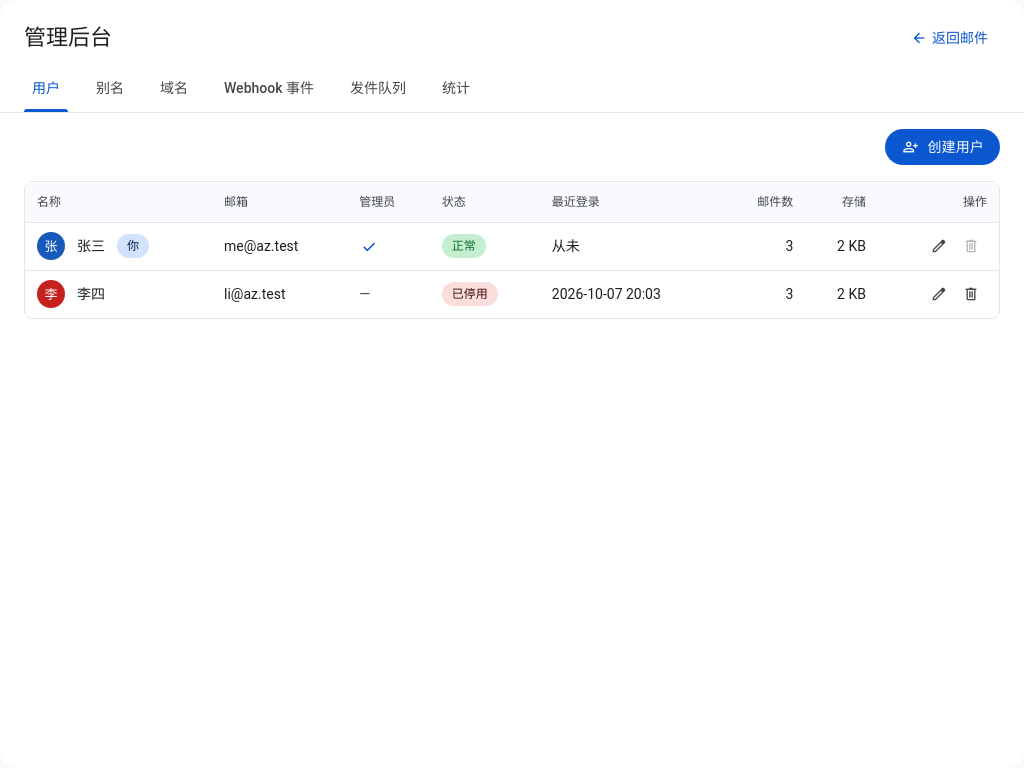
Test case: Admin → 用户 › edit dialog sends only changed fields and shows last_admin
The width and height of the screenshot is (1024, 768).
Check: the text "李四" is shown, box [77,284,105,304]
Click the button named "修改 me@az.test". click: (939, 246)
box: [923,230,955,262]
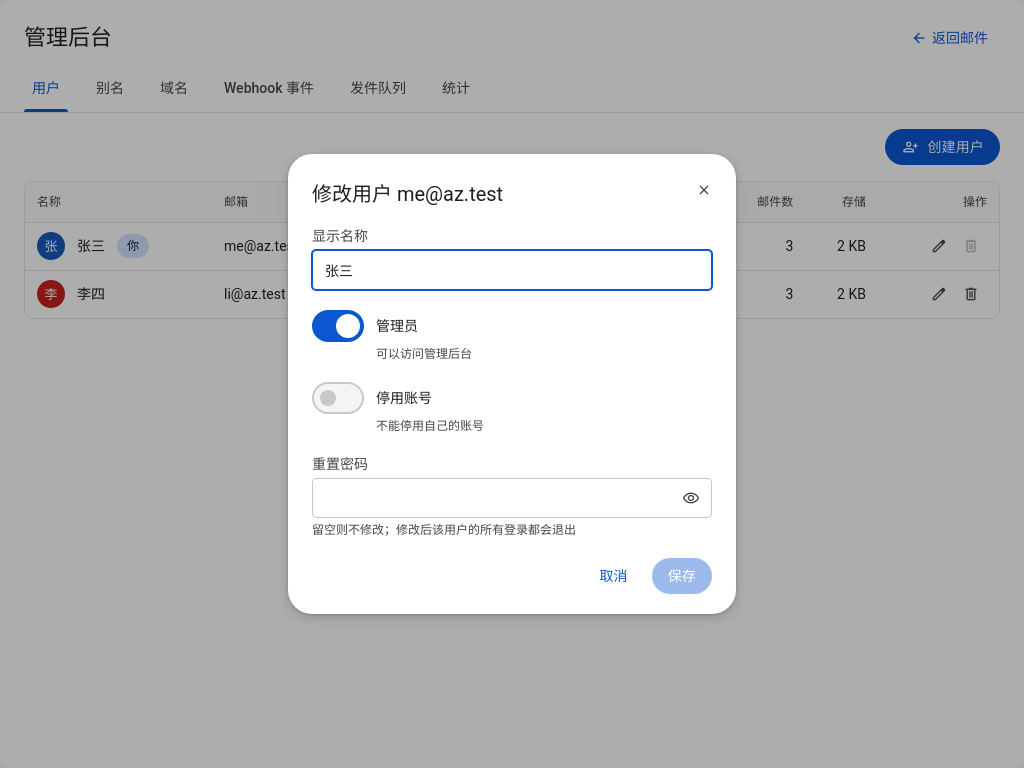
Check: the switch named "停用账号" next to "停用账号" is disabled, box [312,382,364,414]
Check: the button "保存" is disabled, box [652,558,712,594]
Click the 1st switch named "管理员". click: (338, 326)
box: [312,310,364,342]
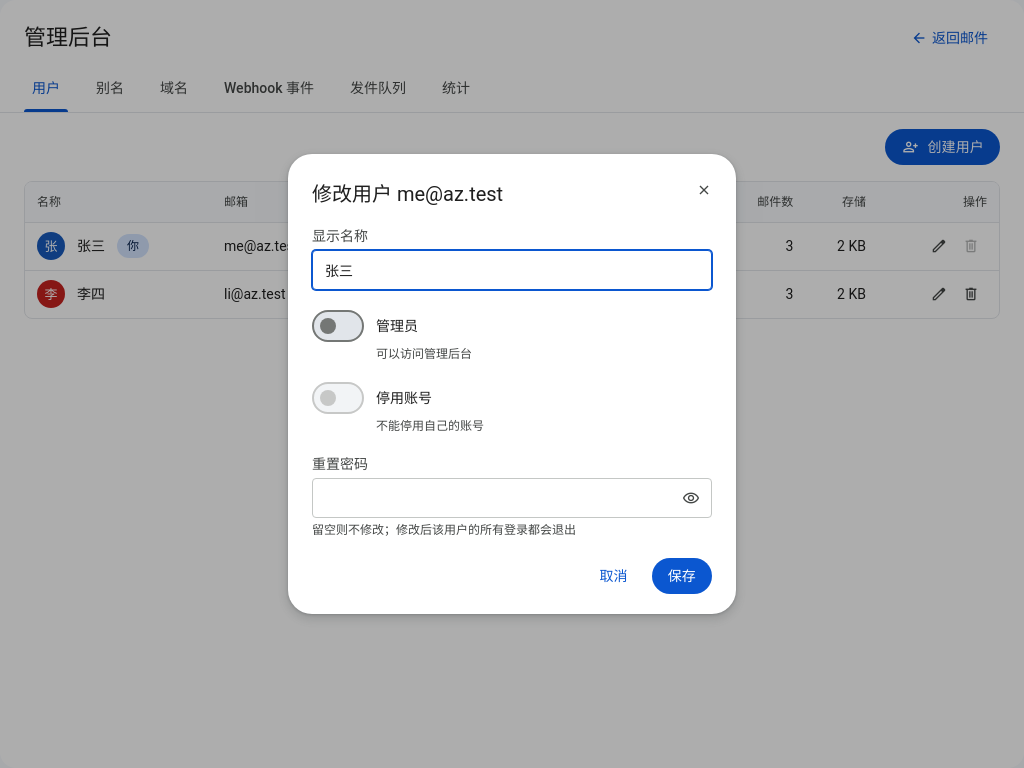
Click the button "保存". click: (682, 576)
box: [652,558,712,594]
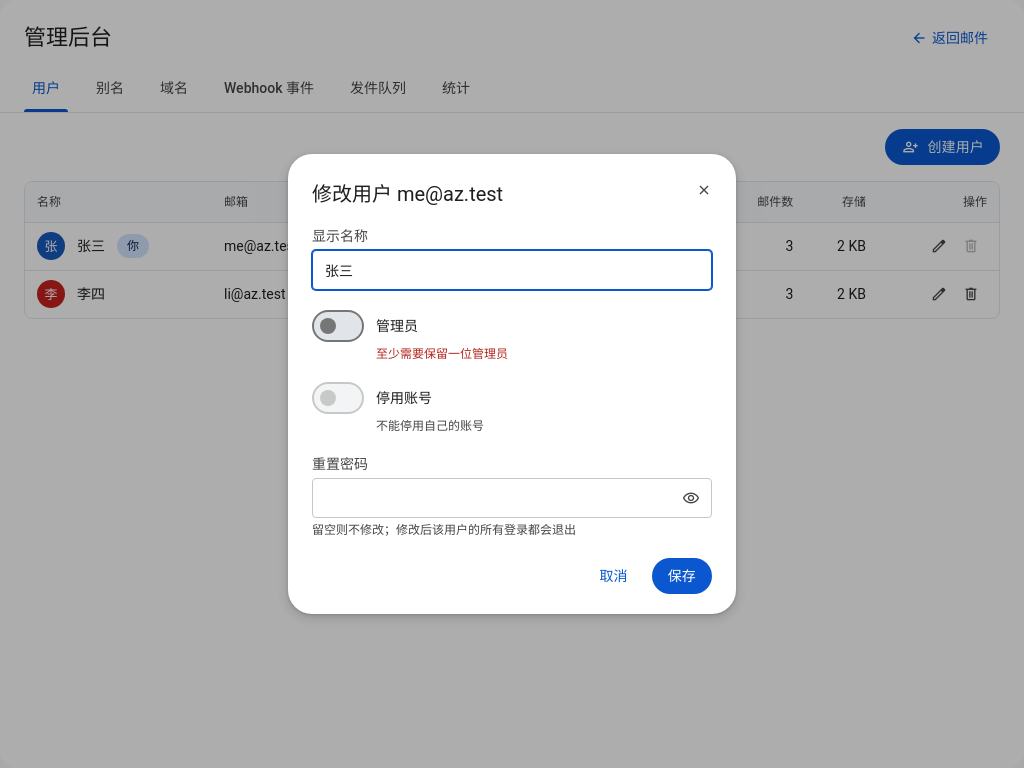
Check: the text "至少需要保留一位管理员" is shown, box [376,347,508,361]
